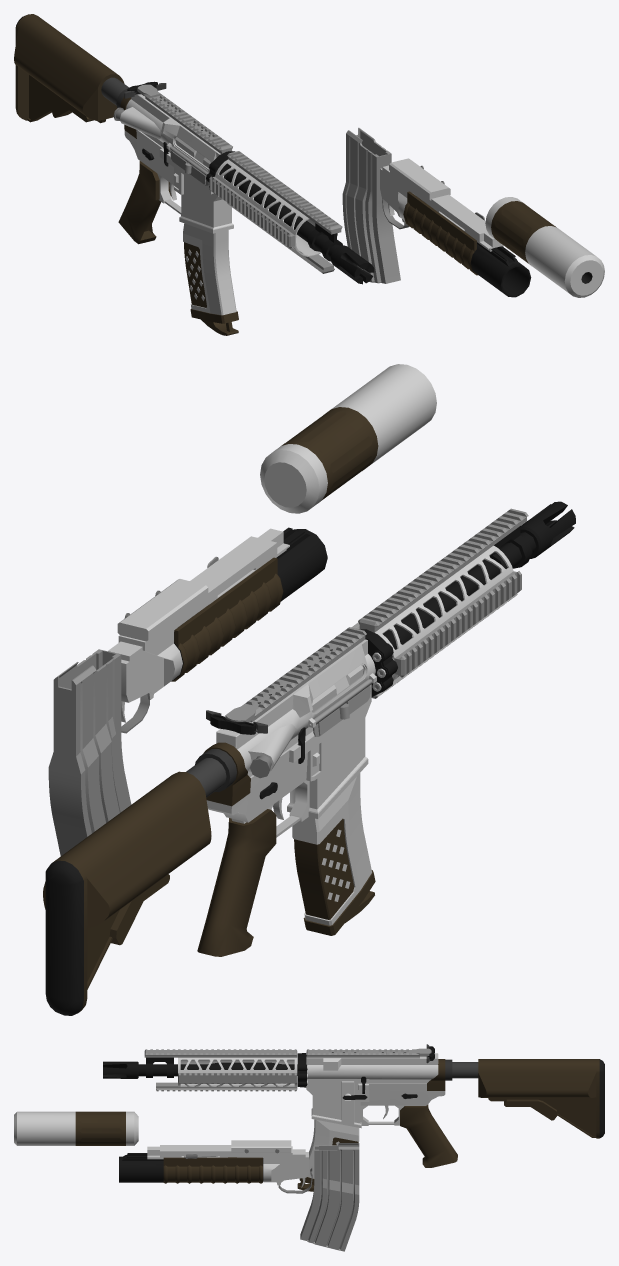
The model's file is DemoFacility_AssaultRifle.FBX.
3 views of the same model, one above another, from view 1: azimuth 30°, elevation 25°; view 2: azimuth 150°, elevation 25°; view 3: azimuth 270°, elevation 25° (orthographic). The views are drawn at different scales.
Visible parts, largest first — view 1: DFAR_AssaultRifle, DFAR_Silencer, DFAR_Magazine_Extended, DFAR_GrenadeLauncherBarrel, DFAR_Magazine_Polymer, DFAR_GrenadeLauncher, DFAR_Muzzle_5Way; view 2: DFAR_AssaultRifle, DFAR_Silencer, DFAR_Magazine_Extended, DFAR_GrenadeLauncher, DFAR_Magazine_Polymer, DFAR_GrenadeLauncherBarrel, DFAR_Muzzle_5Way; view 3: DFAR_AssaultRifle, DFAR_Magazine_Extended, DFAR_Silencer, DFAR_GrenadeLauncherBarrel, DFAR_GrenadeLauncher, DFAR_Magazine_Polymer, DFAR_Muzzle_5Way.
Boxes of the visible parts, left/top/right/bottom form: DFAR_AssaultRifle: left=14, top=14, right=343, bottom=273; DFAR_Silencer: left=485, top=197, right=604, bottom=297; DFAR_Magazine_Extended: left=342, top=127, right=400, bottom=283; DFAR_GrenadeLauncherBarrel: left=403, top=191, right=531, bottom=297; DFAR_Magazine_Polymer: left=183, top=223, right=238, bottom=335; DFAR_GrenadeLauncher: left=380, top=158, right=503, bottom=251; DFAR_Muzzle_5Way: left=331, top=245, right=374, bottom=284; DFAR_AssaultRifle: left=43, top=508, right=536, bottom=1015; DFAR_Silencer: left=260, top=364, right=436, bottom=513; DFAR_Magazine_Extended: left=48, top=649, right=131, bottom=855; DFAR_GrenadeLauncher: left=108, top=528, right=289, bottom=733; DFAR_Magazine_Polymer: left=292, top=773, right=375, bottom=935; DFAR_GrenadeLauncherBarrel: left=171, top=527, right=327, bottom=681; DFAR_Muzzle_5Way: left=520, top=501, right=575, bottom=558; DFAR_AssaultRifle: left=138, top=1048, right=604, bottom=1167; DFAR_Magazine_Extended: left=300, top=1143, right=359, bottom=1251; DFAR_Silencer: left=14, top=1111, right=138, bottom=1145; DFAR_GrenadeLauncherBarrel: left=119, top=1153, right=263, bottom=1183; DFAR_GrenadeLauncher: left=147, top=1140, right=312, bottom=1193; DFAR_Magazine_Polymer: left=297, top=1119, right=359, bottom=1191; DFAR_Muzzle_5Way: left=103, top=1061, right=138, bottom=1078.
Size of the model in its own units: 32.28 by 27.59 by 107.
